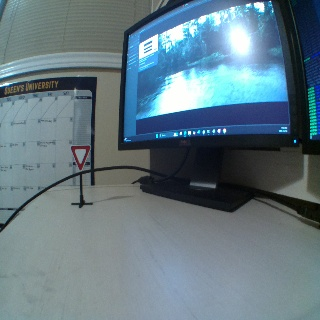sign_yield: (70, 144, 90, 168)
